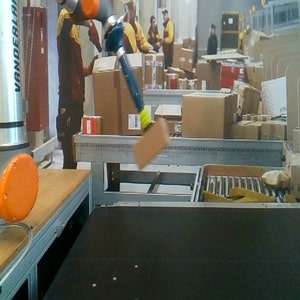box: (131, 116, 173, 172)
